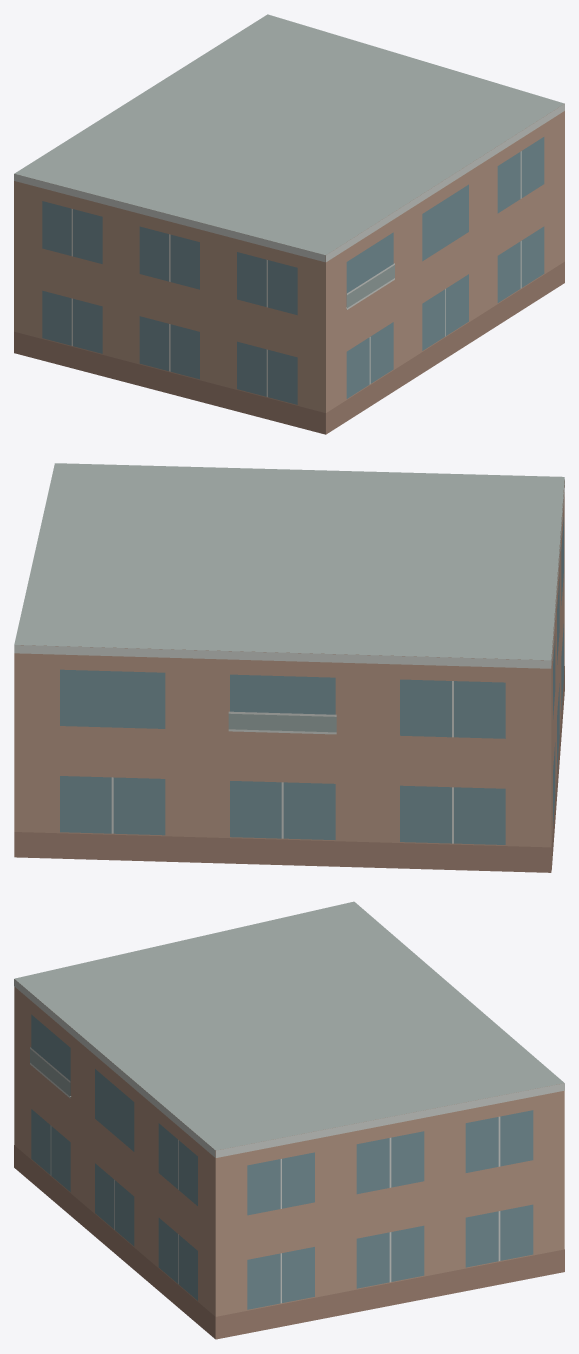
The model's file is survey-upis-32985382.glb.
The picture shows the model from 3 angles, top to bottom: view 1: azimuth 30°, elevation 25°; view 2: azimuth 150°, elevation 25°; view 3: azimuth 270°, elevation 25°; orthographic projection. The views are drawn at different scales.
Parts seen in each view (by area): view 1: survey-upis-32985382.tmp; view 2: survey-upis-32985382.tmp; view 3: survey-upis-32985382.tmp.
Part boxes in pixels (x1,y1,x2,y2): survey-upis-32985382.tmp: (14,14,564,434); survey-upis-32985382.tmp: (14,463,564,872); survey-upis-32985382.tmp: (14,901,564,1339).
Bounding box in the file's own units: 17.27 × 6.1 × 16.13.
